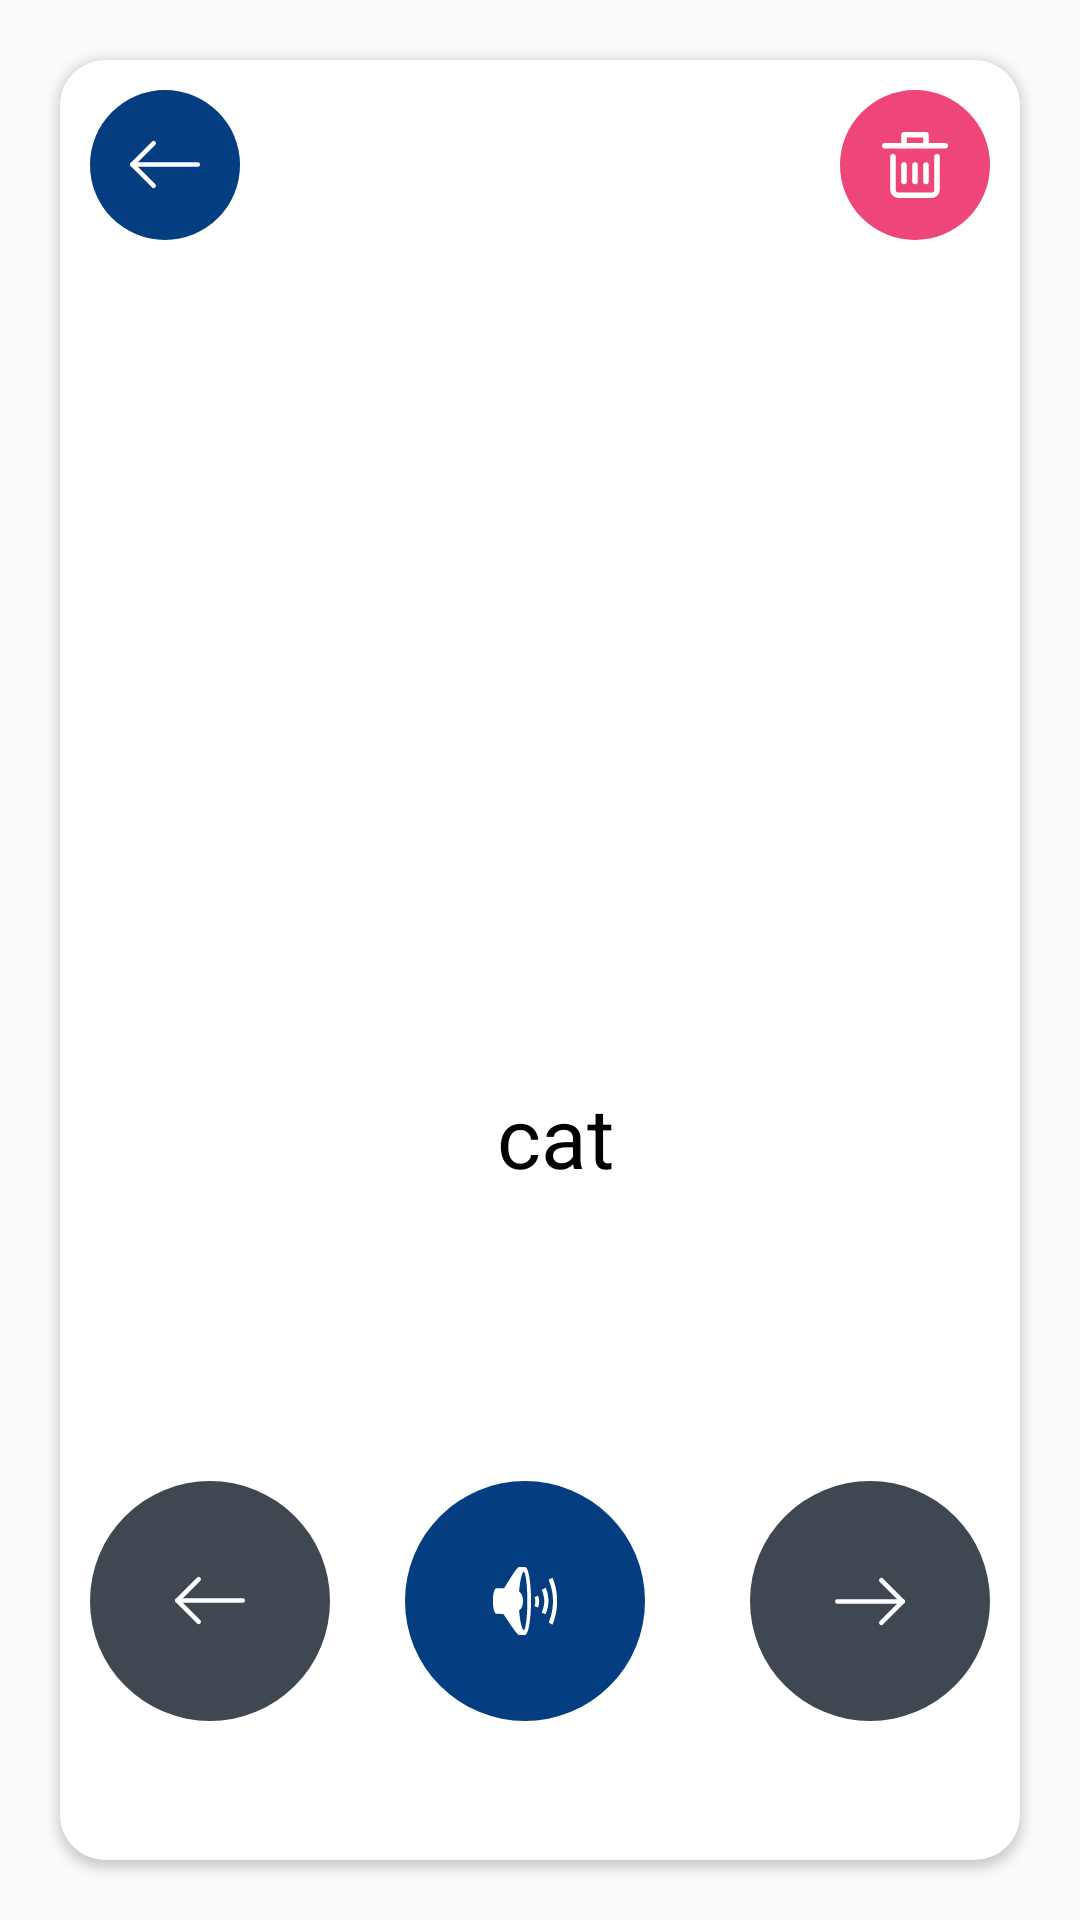

Where icons sit on this 1080w x 1920h app screen, as (x1, y1, x2, y2):
delete: (840, 90, 990, 240)
